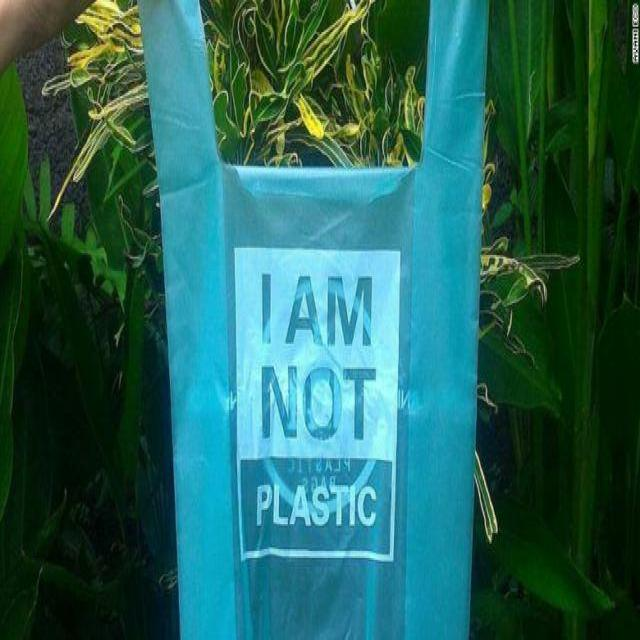plastic_bag: (134, 1, 503, 640)
